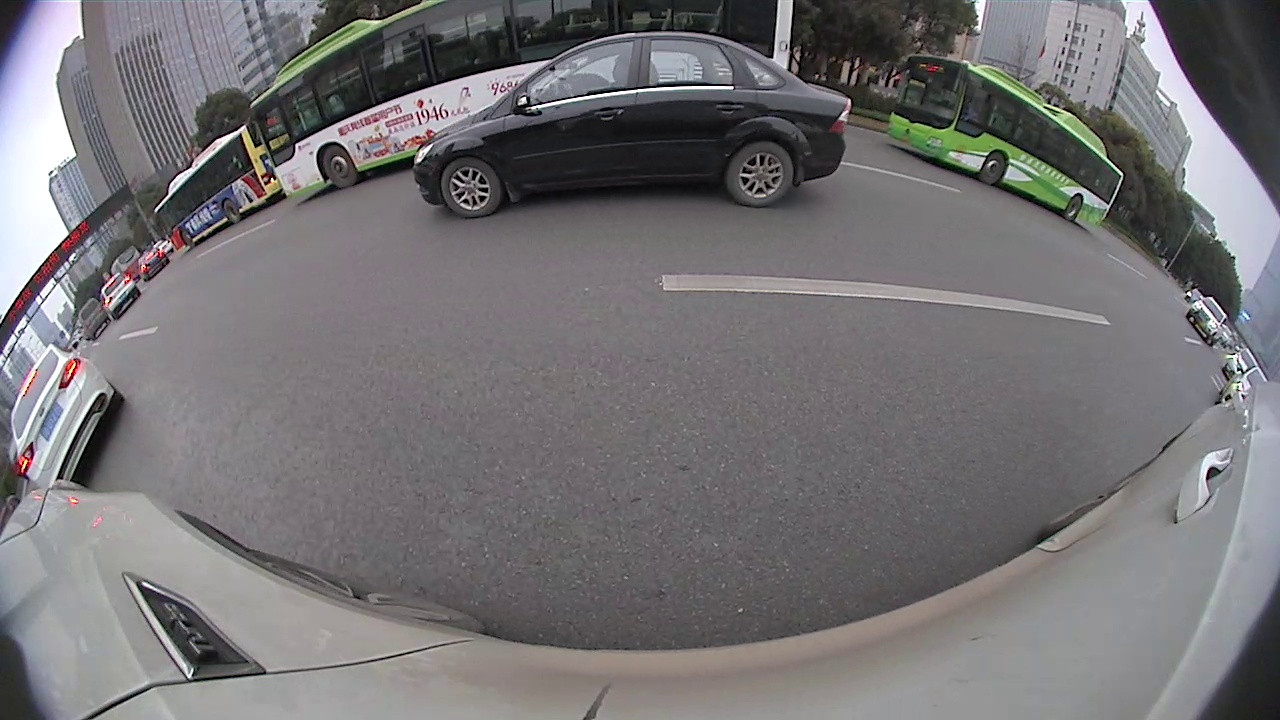bus: (244, 2, 799, 211), (885, 45, 1130, 236), (150, 127, 283, 258)
car: (410, 27, 854, 222), (11, 339, 129, 491)
front: (437, 157, 503, 218), (319, 142, 357, 191), (980, 148, 1008, 188)
rear: (725, 138, 795, 208), (221, 198, 240, 226), (1064, 193, 1084, 219)
